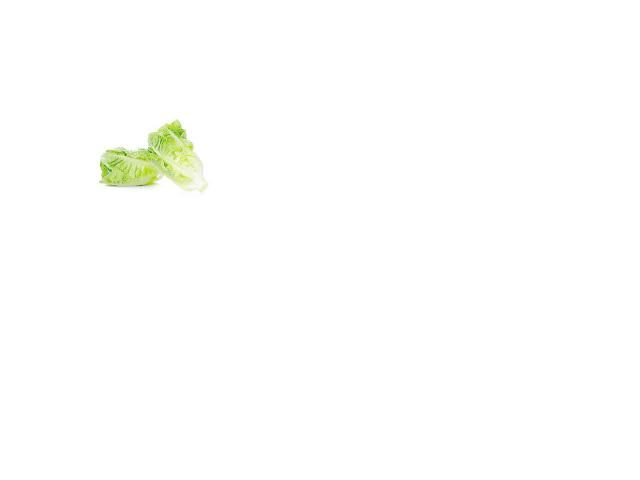lettuce: (139, 122, 209, 197)
